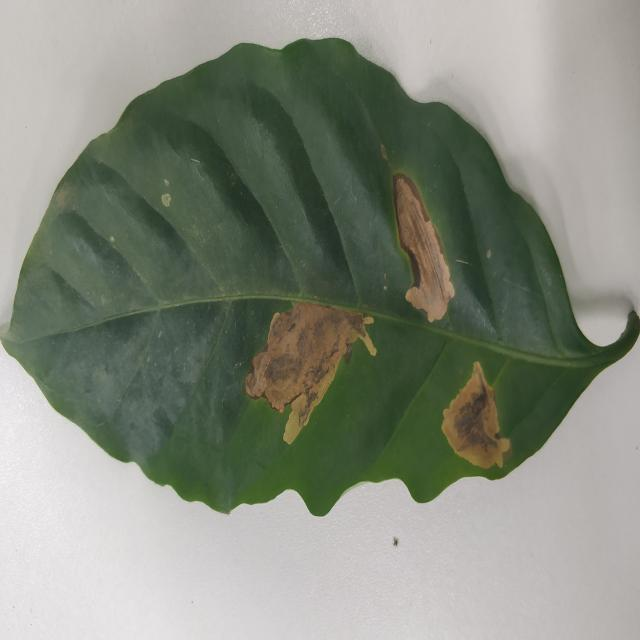Plaga-Minador: (13, 39, 639, 518)
